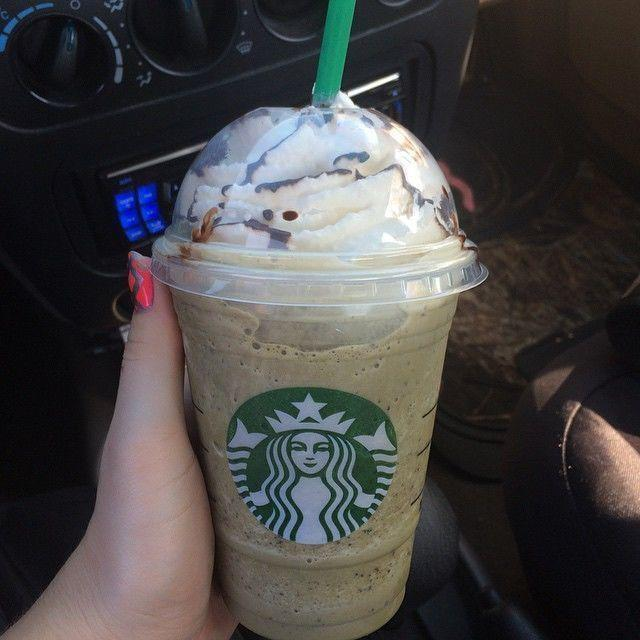cup-disposable: (148, 100, 490, 639)
